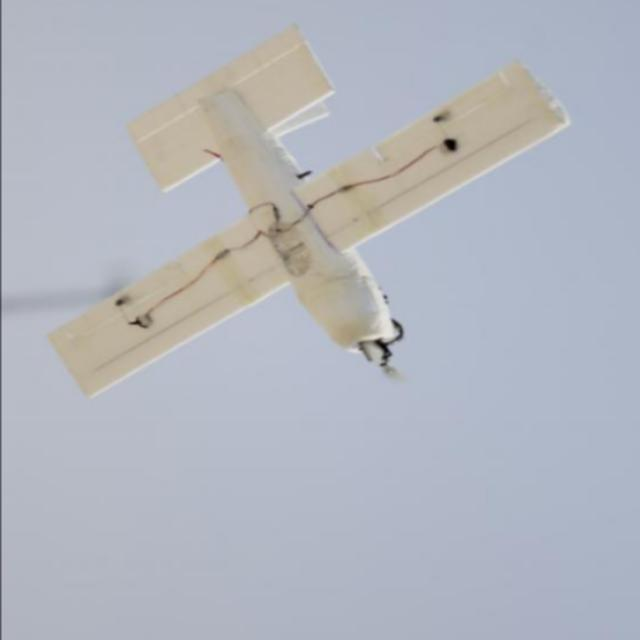plane: (45, 23, 572, 400)
